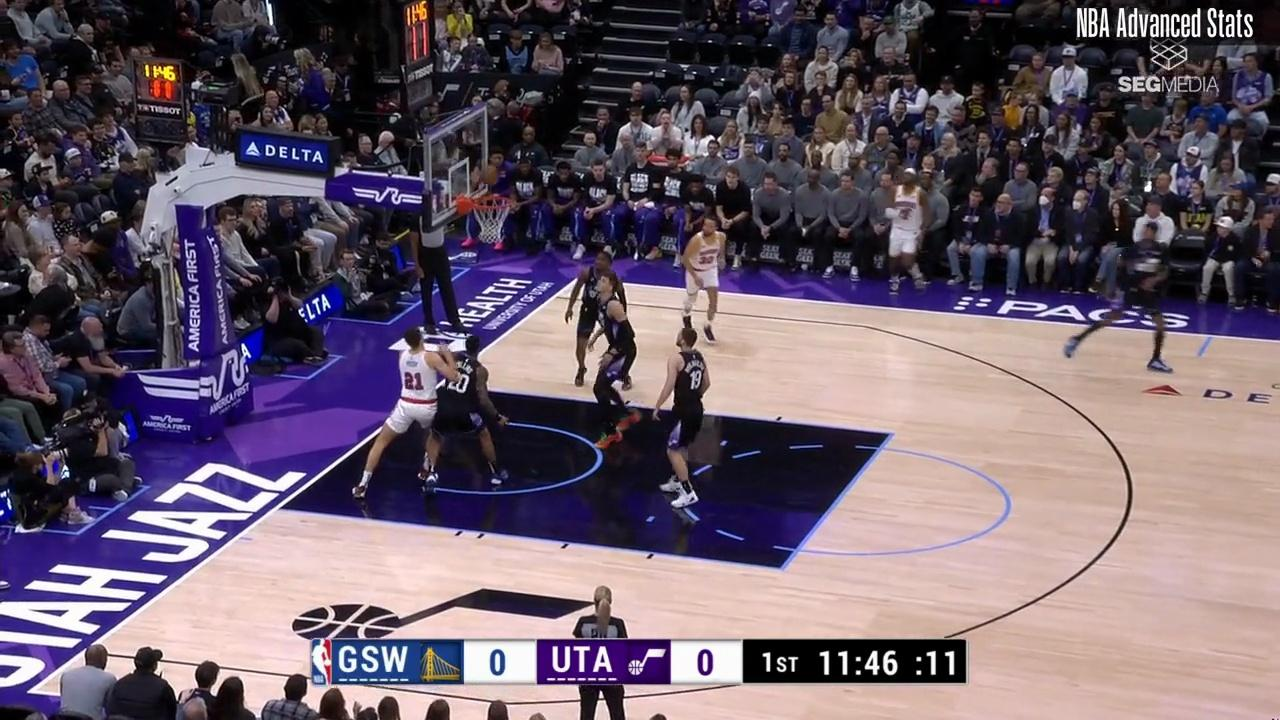basketball: (477, 162, 503, 187)
